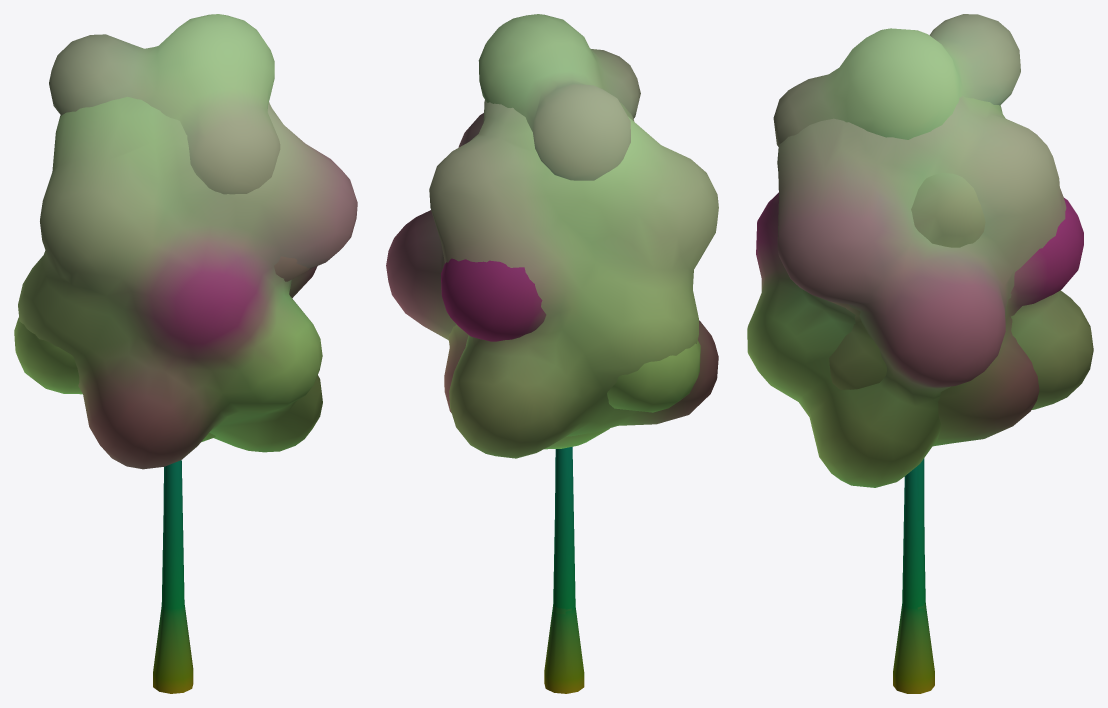
Rendered from oval.glb.
3 views of the same model, side by side, from view 1: azimuth 30°, elevation 25°; view 2: azimuth 150°, elevation 25°; view 3: azimuth 270°, elevation 25° (orthographic). The views are drawn at different scales.
Visible parts, largest first — view 1: oval_0_lod0, oval_1_lod0; view 2: oval_0_lod0, oval_1_lod0; view 3: oval_0_lod0, oval_1_lod0.
Boxes of the visible parts, x1,y1,x2,y2 form: oval_0_lod0: (18,96,357,693); oval_1_lod0: (14,14,309,497); oval_0_lod0: (386,100,718,693); oval_1_lod0: (441,14,700,614); oval_0_lod0: (747,96,1093,693); oval_1_lod0: (773,14,1083,610).
Size of what is drawn, in the model's own units: 6.92 by 14.62 by 6.87.
